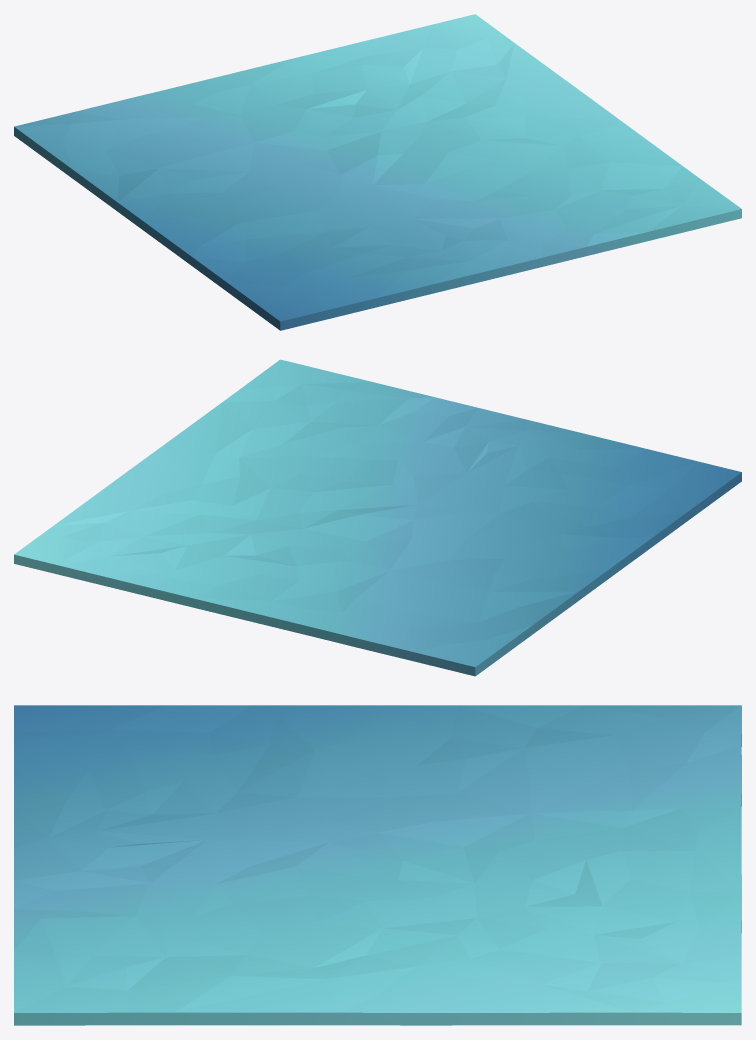
The model's file is WaterJapan.gltf.
3 views of the same model, one above another, from view 1: azimuth 30°, elevation 25°; view 2: azimuth 150°, elevation 25°; view 3: azimuth 270°, elevation 25° (orthographic). The views are drawn at different scales.
Parts seen in each view (by area): view 1: WaterJapan; view 2: WaterJapan; view 3: WaterJapan.
Part boxes in pixels (bbox=[...]): WaterJapan: bbox=[14, 14, 741, 330]; WaterJapan: bbox=[14, 359, 741, 676]; WaterJapan: bbox=[14, 705, 741, 1025].
Bounding box in the file's own units: 225 × 5.82 × 225.
1 material, 1 textured.
